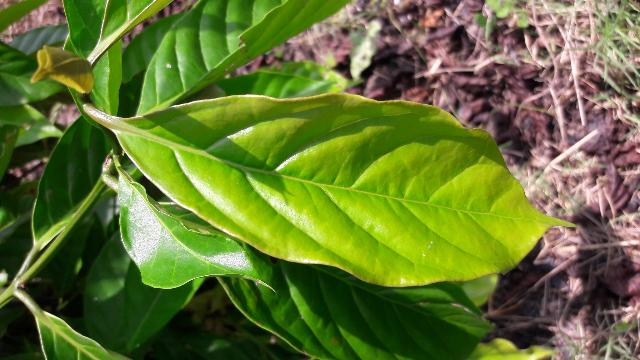healthy: (112, 100, 542, 279)
